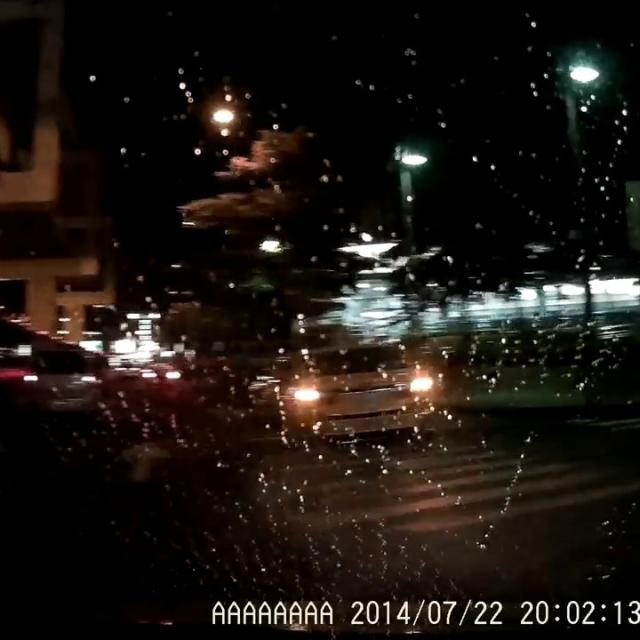Car: (278, 336, 432, 444), (0, 337, 106, 415)
